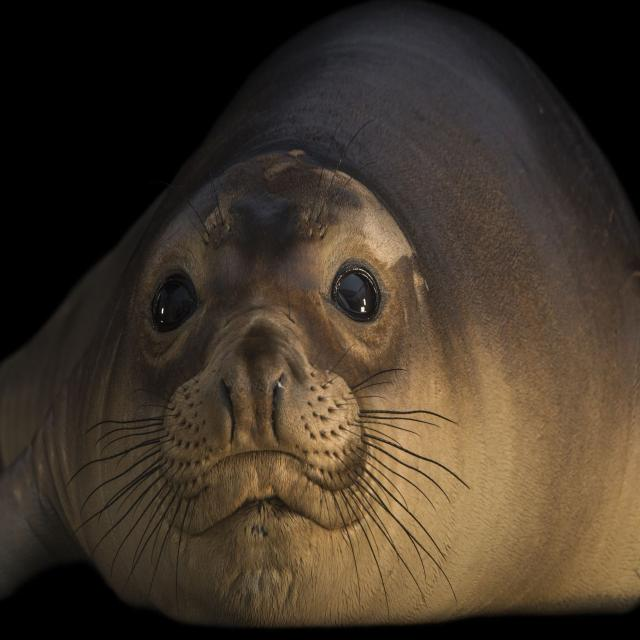seal: (0, 2, 640, 625)
